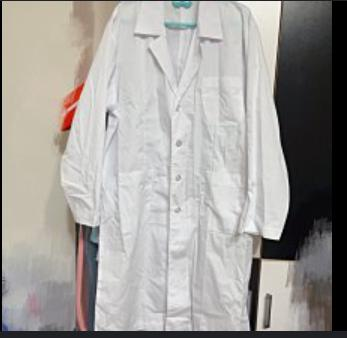lab_coat: (58, 0, 292, 331)
